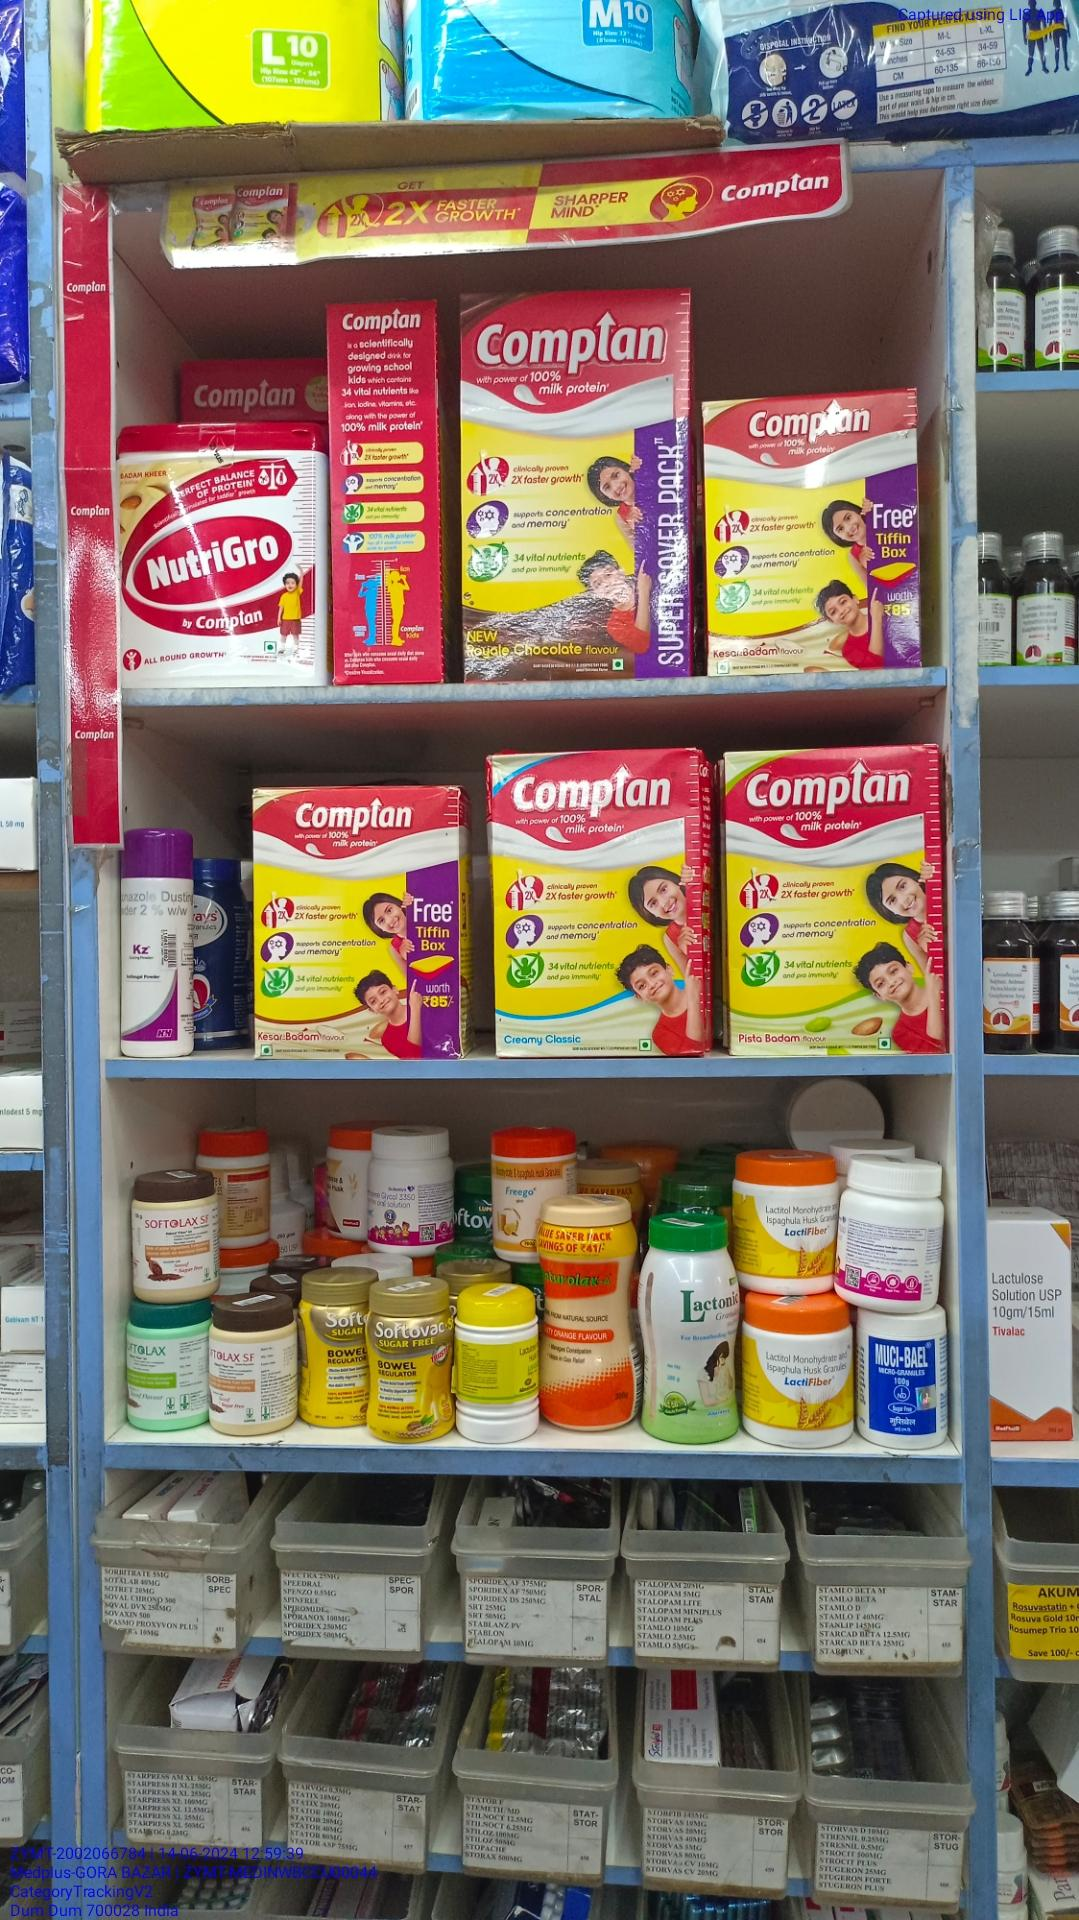COMPLAN_CHOCOLATE_1_KG_PACK: (460, 297, 698, 684)
COMPLAN_CREAMY_CLASSIC_500_G_PACK: (492, 752, 708, 1060)
COMPLAN_KESAR_BADAM_500_GMS_PACK: (708, 396, 918, 671), (253, 779, 455, 1060)
COMPLAN_PISTA_BADAM_500_GMS_PACK: (728, 742, 943, 1060)
